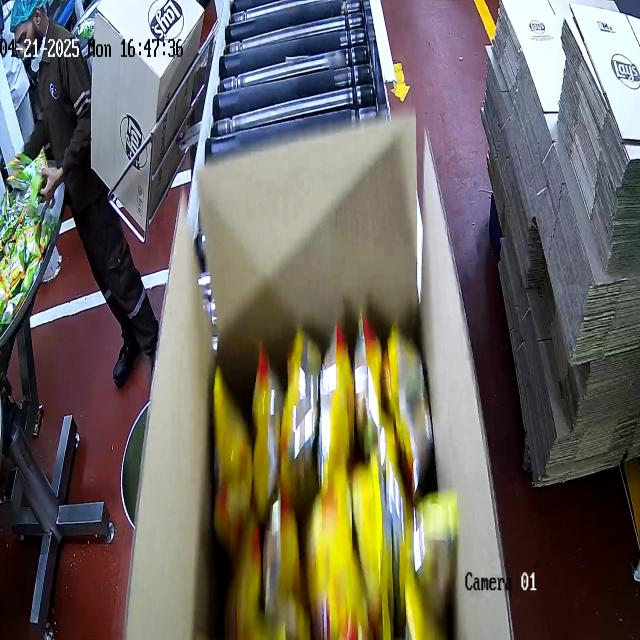SALTED: (212, 318, 456, 640)
